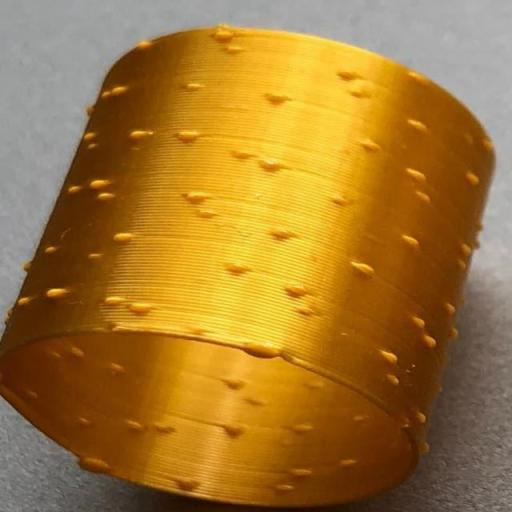blobs: (226, 142, 261, 170), (260, 153, 291, 179), (122, 414, 152, 437), (344, 257, 372, 281), (400, 159, 428, 182), (265, 86, 297, 106), (402, 68, 432, 89), (218, 259, 254, 276), (176, 190, 214, 206), (128, 299, 160, 318), (223, 415, 247, 440), (172, 474, 202, 494), (78, 454, 109, 473), (406, 119, 433, 140), (286, 282, 312, 303), (393, 234, 427, 250), (216, 375, 248, 392), (304, 376, 331, 396), (78, 131, 106, 150), (270, 224, 298, 243), (41, 283, 78, 297), (373, 349, 405, 365), (176, 128, 202, 147), (360, 137, 386, 156), (17, 293, 46, 310), (107, 357, 130, 378), (125, 126, 152, 143), (182, 78, 210, 94), (104, 82, 132, 98), (154, 419, 180, 436), (334, 66, 358, 84), (66, 182, 90, 200), (277, 481, 304, 497), (328, 192, 354, 208), (112, 228, 134, 246), (86, 175, 112, 190), (414, 186, 433, 206), (338, 452, 359, 470), (342, 411, 371, 424), (289, 421, 311, 438), (386, 374, 408, 391), (101, 292, 125, 307), (71, 344, 91, 362), (292, 466, 317, 480), (460, 239, 478, 258), (77, 414, 96, 432), (422, 333, 442, 350), (213, 31, 238, 44), (466, 169, 484, 187), (414, 408, 432, 426), (443, 302, 462, 319), (411, 315, 430, 331), (136, 39, 153, 53), (96, 190, 114, 203)
